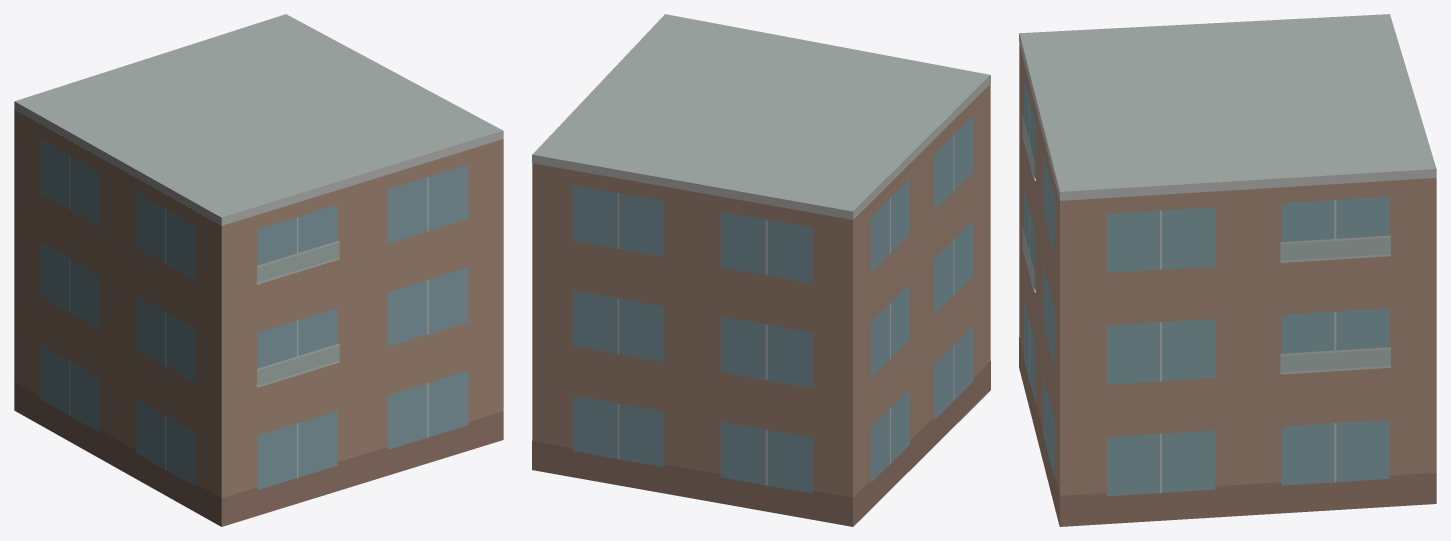
Rendered from survey-upis-32534233.glb.
3 renders of one model, left to right at view 1: azimuth 30°, elevation 25°; view 2: azimuth 150°, elevation 25°; view 3: azimuth 270°, elevation 25°, orthographic. The views are drawn at different scales.
Parts seen in each view (by area): view 1: survey-upis-32534233.tmp; view 2: survey-upis-32534233.tmp; view 3: survey-upis-32534233.tmp.
Boxes of the visible parts, x1,y1,x2,y2 form: survey-upis-32534233.tmp: (14,14,503,526); survey-upis-32534233.tmp: (532,14,990,526); survey-upis-32534233.tmp: (1019,14,1436,526).
Bounding box in the file's own units: 10.44 × 9.15 × 10.34.
